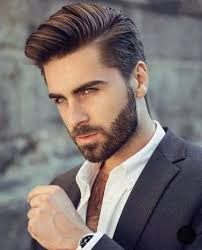b.y: (69, 126, 119, 160)
